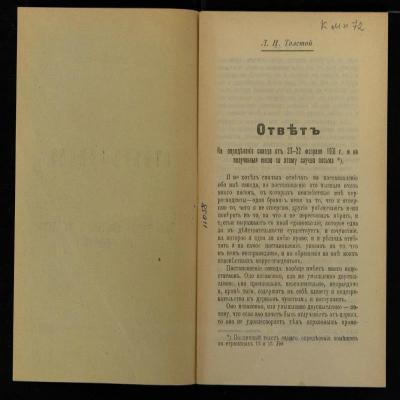rare_books: (12, 8, 400, 393)
